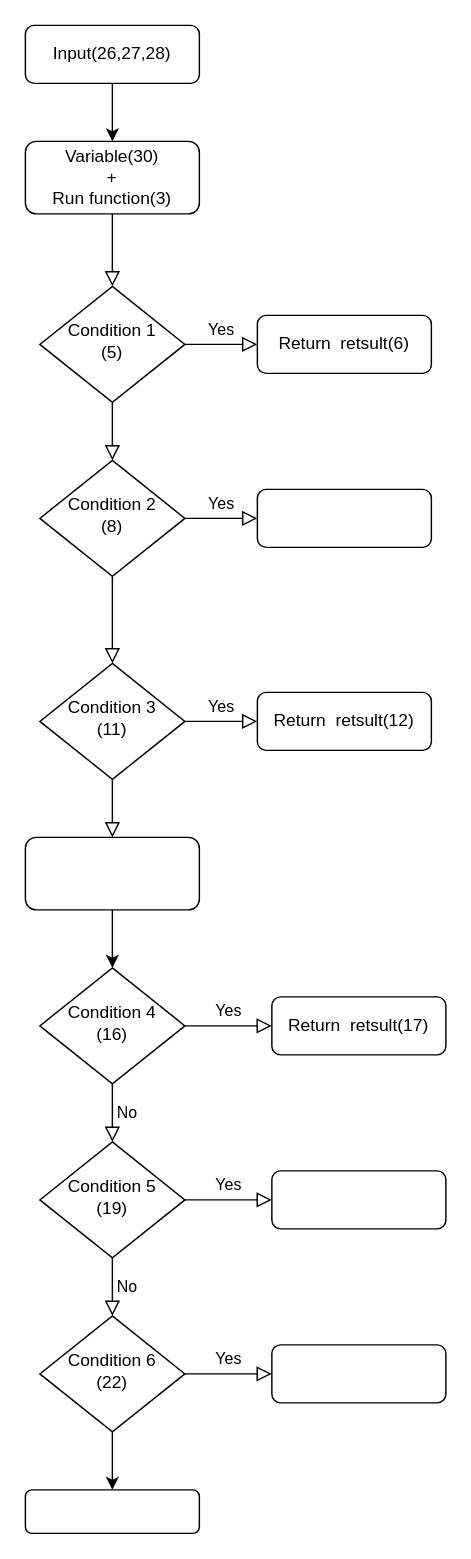
Some shapes in this 471 by 1559 pixel diagram are drawn without their labels. The shapes that lost their labels are listed below. From the top down, each one's centre as x and y in pixels, then its label:
the point at 343,517: Return retsult(9)
the point at 111,873: Variable(14) + 内置函數(15)
the point at 358,1199: Return retsult(20)
the point at 358,1373: Return retsult(21)
the point at 111,1510: Output(31)
